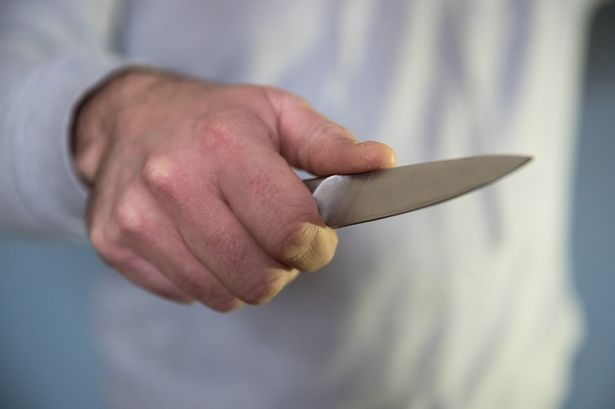knife: (169, 148, 537, 238)
